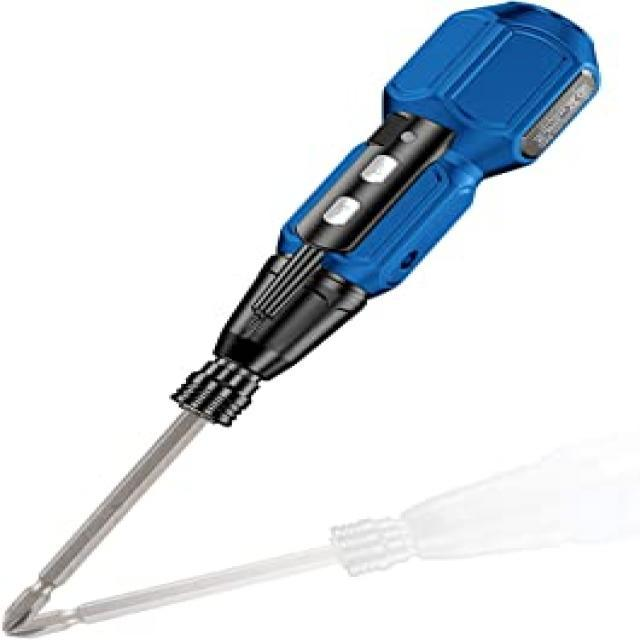screwdriver: (0, 2, 604, 640)
